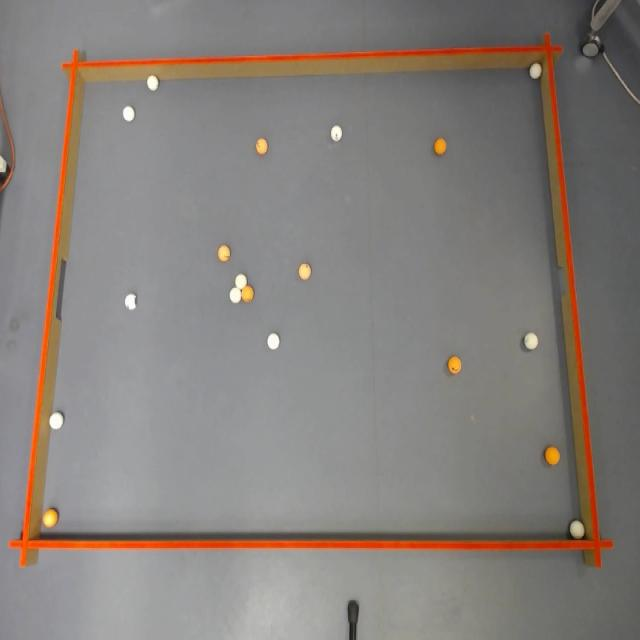orange_ball: (544, 446, 560, 466), (42, 508, 58, 528), (448, 356, 461, 374), (298, 263, 310, 280), (434, 138, 446, 155), (218, 245, 230, 262), (242, 285, 254, 302), (256, 138, 267, 155)
white_ball: (569, 520, 585, 539), (524, 333, 538, 350), (50, 412, 64, 429), (529, 62, 542, 80), (122, 105, 134, 122), (268, 333, 280, 350), (125, 294, 137, 310), (235, 273, 247, 289), (331, 125, 342, 142), (147, 75, 158, 91), (230, 288, 241, 304)
